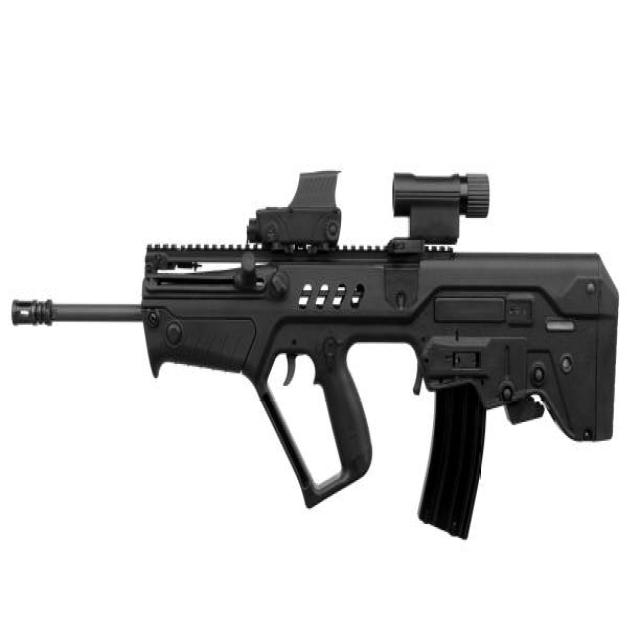rifle: (7, 150, 628, 567)
